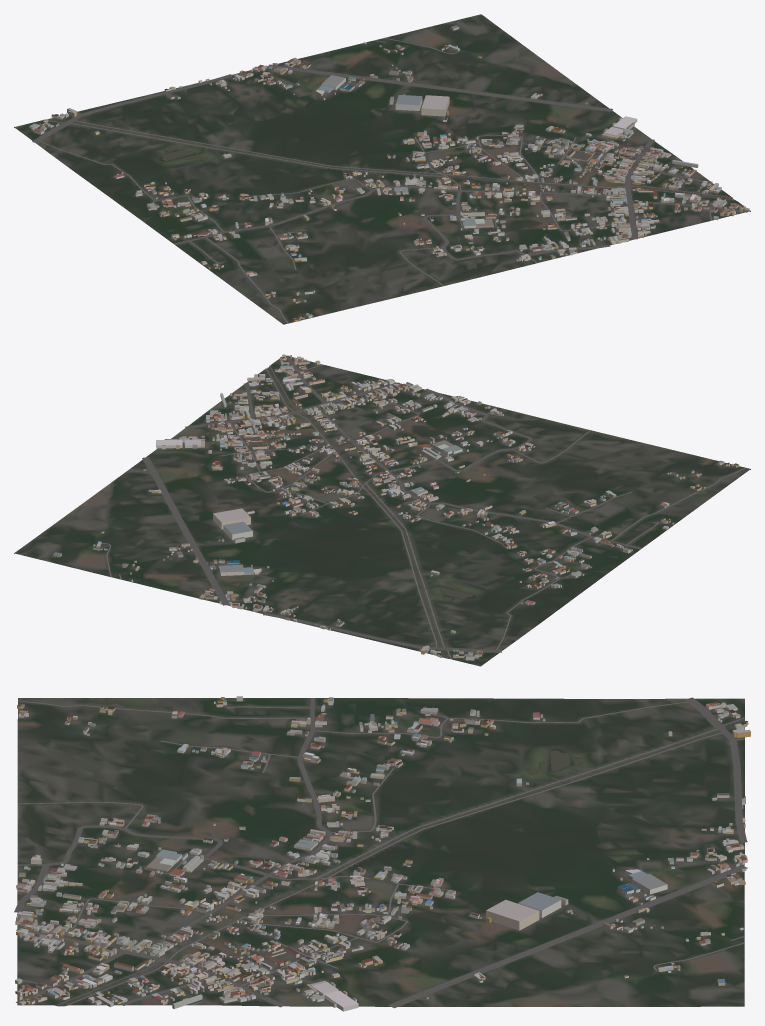
3 renders of one model, top to bottom at view 1: azimuth 30°, elevation 25°; view 2: azimuth 150°, elevation 25°; view 3: azimuth 270°, elevation 25°, orthographic. The views are drawn at different scales.
Parts seen in each view (by area): view 1: ground, buildings, roads, water; view 2: ground, buildings, roads, water; view 3: ground, buildings, roads, water.
Part boxes in pixels (left/top/right/bottom): ground: left=14, top=14, right=750, bottom=324; buildings: left=29, top=25, right=749, bottom=321; roads: left=32, top=38, right=747, bottom=323; water: left=50, top=118, right=734, bottom=199; ground: left=14, top=355, right=750, bottom=666; buildings: left=53, top=354, right=739, bottom=660; roads: left=102, top=355, right=745, bottom=659; water: left=267, top=367, right=473, bottom=657; ground: left=17, top=698, right=744, bottom=1006; buildings: left=15, top=696, right=750, bottom=1011; roads: left=14, top=697, right=747, bottom=1008; water: left=61, top=726, right=734, bottom=1006.
Bounding box in the file's own units: 1425 × 23.9 × 1419.
